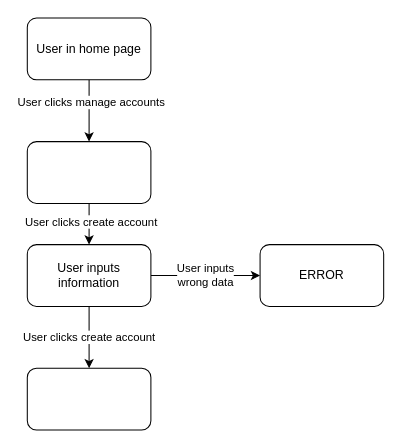
This 403x448 diagram has some shape labels left out. Each missing label, with the centre of its shape:
Account is successfully created: (88,398)
User views account list: (88,172)
